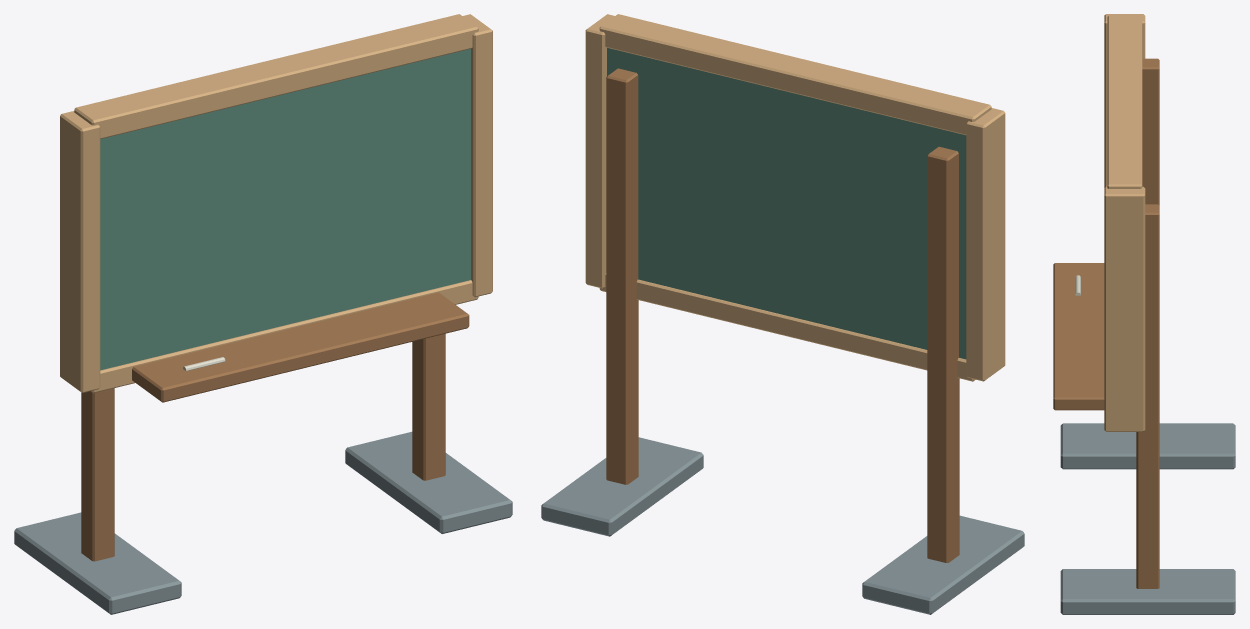
3 views of the same model, side by side, from view 1: azimuth 30°, elevation 25°; view 2: azimuth 150°, elevation 25°; view 3: azimuth 270°, elevation 25° (orthographic). The views are drawn at different scales.
Visible parts, largest first — view 1: education-blackboard-01; view 2: education-blackboard-01; view 3: education-blackboard-01.
Boxes of the visible parts, left/top/right/bottom form: education-blackboard-01: left=14, top=14, right=512, bottom=614; education-blackboard-01: left=541, top=14, right=1024, bottom=614; education-blackboard-01: left=1053, top=14, right=1235, bottom=614.
Bounding box in the file's own units: 1.47 × 1.62 × 0.625.
